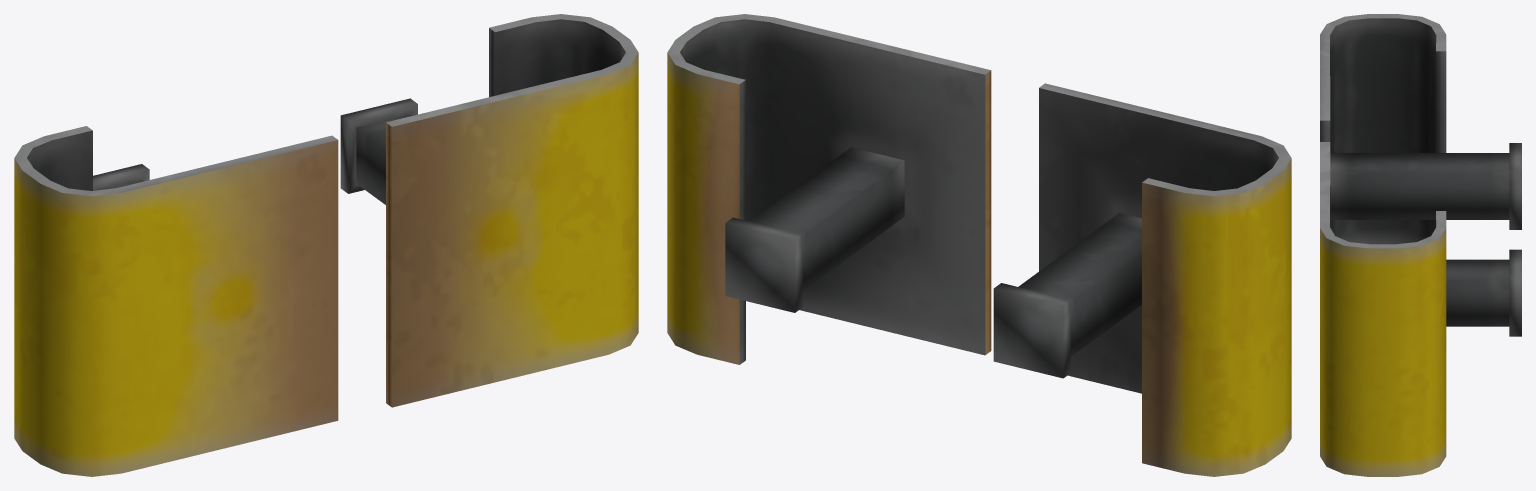
File: Number_Sign.glb
3 renders of one model, left to right at view 1: azimuth 30°, elevation 25°; view 2: azimuth 150°, elevation 25°; view 3: azimuth 270°, elevation 25°, orthographic. The views are drawn at different scales.
Visible parts, largest first — view 1: Number_Sign.001; view 2: Number_Sign.001; view 3: Number_Sign.001.
Part boxes in pixels (box(x1,y1,x2,y2)): Number_Sign.001: box(14, 14, 638, 476); Number_Sign.001: box(667, 14, 1291, 476); Number_Sign.001: box(1320, 14, 1521, 476).
Size of the model in its own units: 0.88 by 0.4 by 0.32.
1 material, 1 textured.
